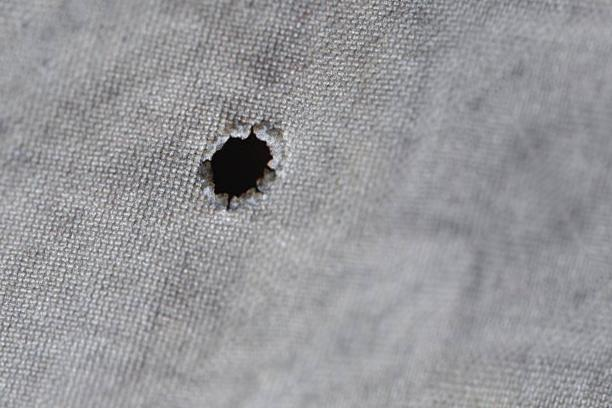hole: (196, 121, 280, 215)
